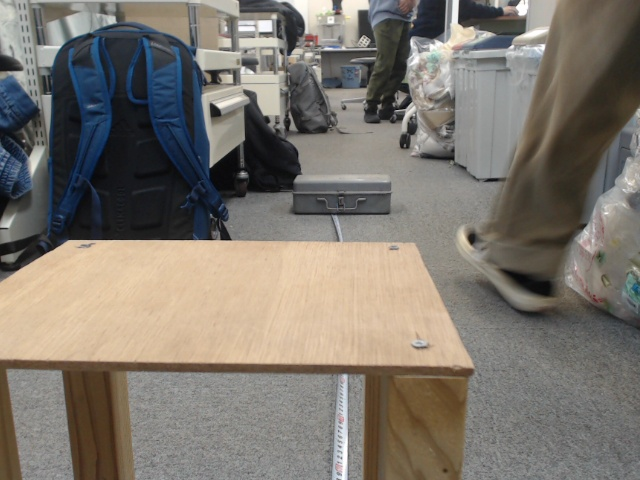desk: (245, 173, 469, 419)
